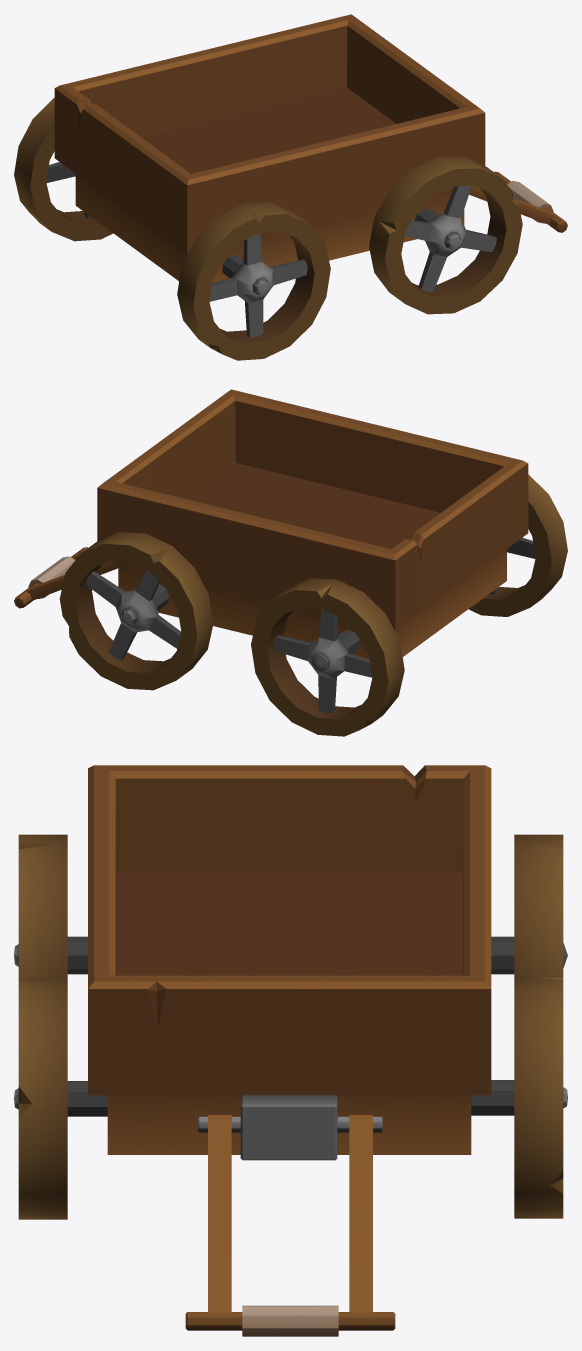
The model's file is obj_BoxCart.fbx.
3 renders of one model, top to bottom at view 1: azimuth 30°, elevation 25°; view 2: azimuth 150°, elevation 25°; view 3: azimuth 270°, elevation 25°, orthographic. The views are drawn at different scales.
Parts seen in each view (by area): view 1: obj_BoxCart; view 2: obj_BoxCart; view 3: obj_BoxCart.
Part boxes in pixels (x1,y1,x2,y2): obj_BoxCart: (14, 14, 567, 360); obj_BoxCart: (14, 389, 567, 736); obj_BoxCart: (14, 765, 567, 1336).
Size of the model in its own units: 124 by 48.82 by 90.45.
